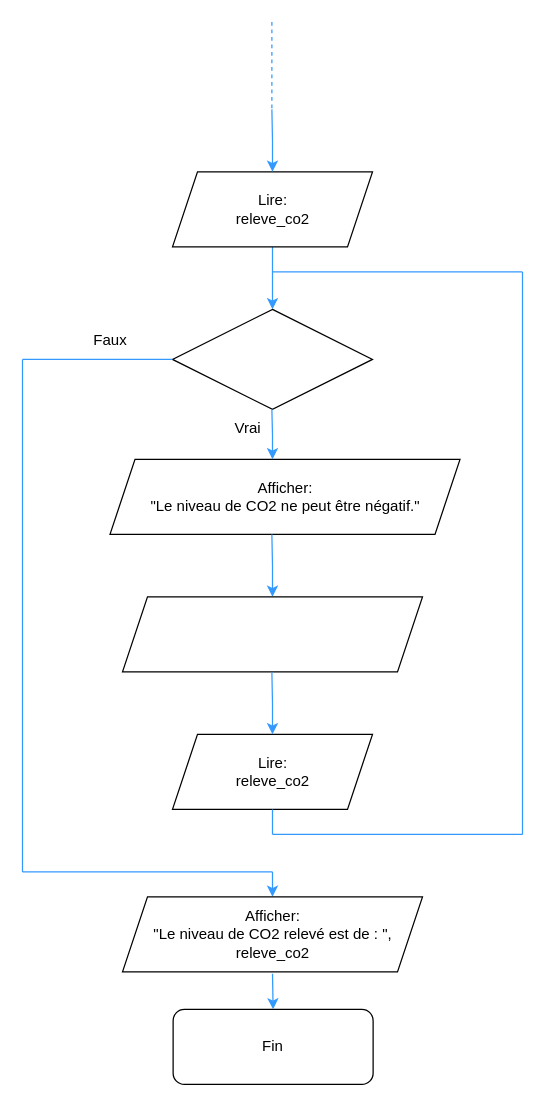
Image size: 545x1106. Some labels were removed from this diagram. The box of each missing label's shape, as (x1, y1, x2, y2) in pixels:
Afficher: "Entrez le niveau de CO2 relevé :": (121, 596, 422, 672)
relevé_co2 < 0: (171, 308, 372, 409)
